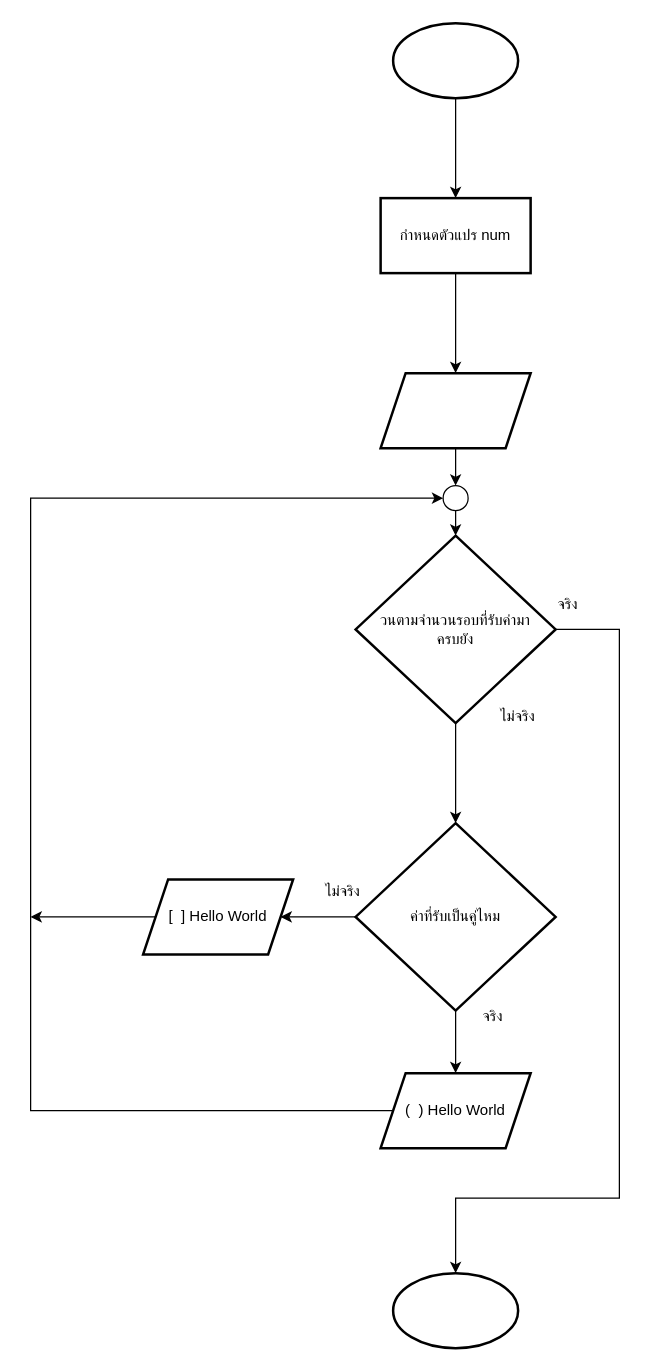
This 651x1370 diagram has some shape labels left out. Here are the shapes that lost their labels. From the top down, the centre of each, then its label:
(x=455, y=60): start
(x=455, y=410): รับค่าตัวเลขคู่คี่จำนวนรอบ
(x=455, y=1310): end
